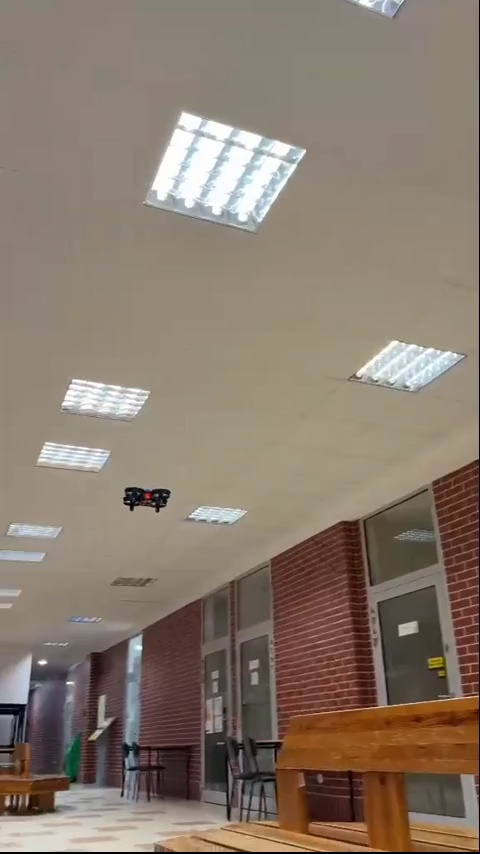drone: (121, 483, 173, 512)
